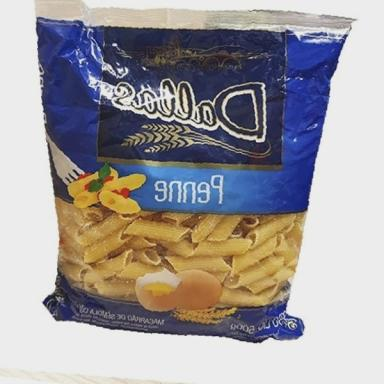pasta package: (36, 0, 351, 341)
